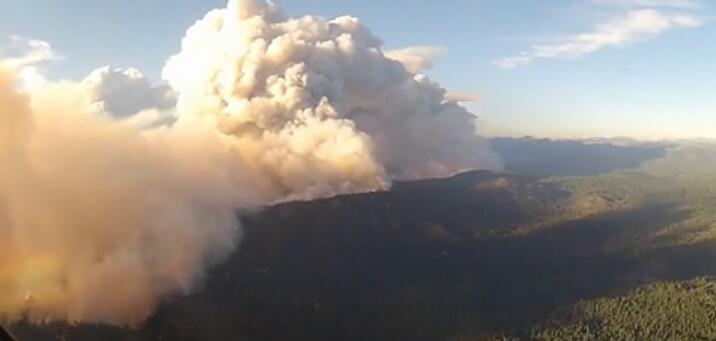smoke: (1, 1, 482, 328)
